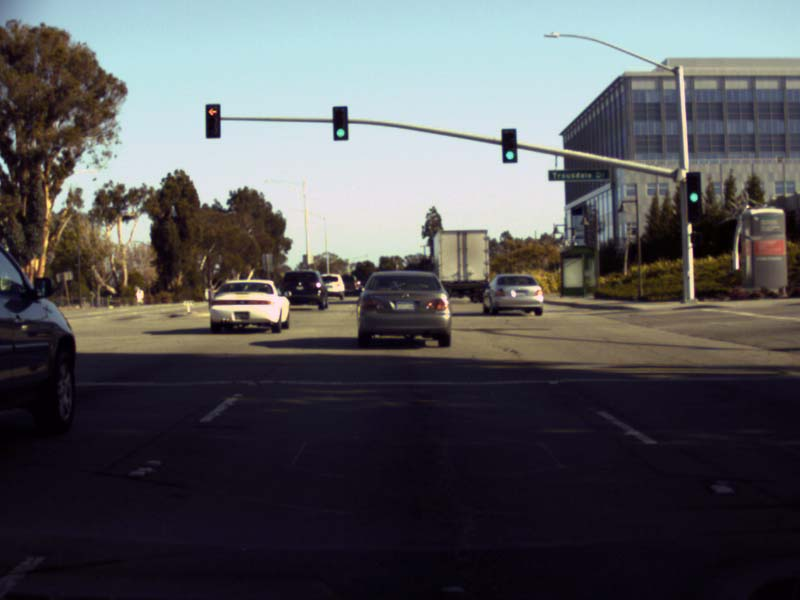Green: (686, 173, 702, 220), (331, 106, 348, 140), (501, 128, 517, 163)
Red: (204, 103, 220, 138)
